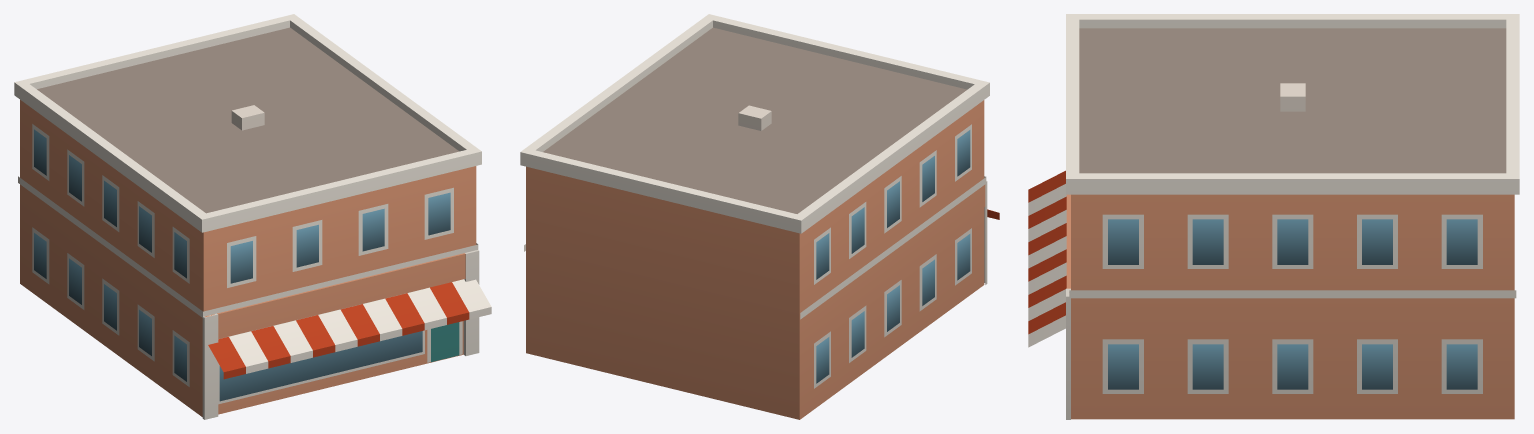
File: boylston_s12_far.glb
The picture shows the model from 3 angles, left to right: view 1: azimuth 30°, elevation 25°; view 2: azimuth 150°, elevation 25°; view 3: azimuth 270°, elevation 25°; orthographic projection. The views are drawn at different scales.
Visible parts, largest first — view 1: boylston_s12_far; view 2: boylston_s12_far; view 3: boylston_s12_far.
Boxes of the visible parts, x1,y1,x2,y2 form: boylston_s12_far: (14, 14, 491, 419); boylston_s12_far: (520, 14, 999, 419); boylston_s12_far: (1028, 14, 1519, 419).
Bounding box in the file's own units: 12.32 × 8.67 × 15.51.
1 material, 1 textured.
